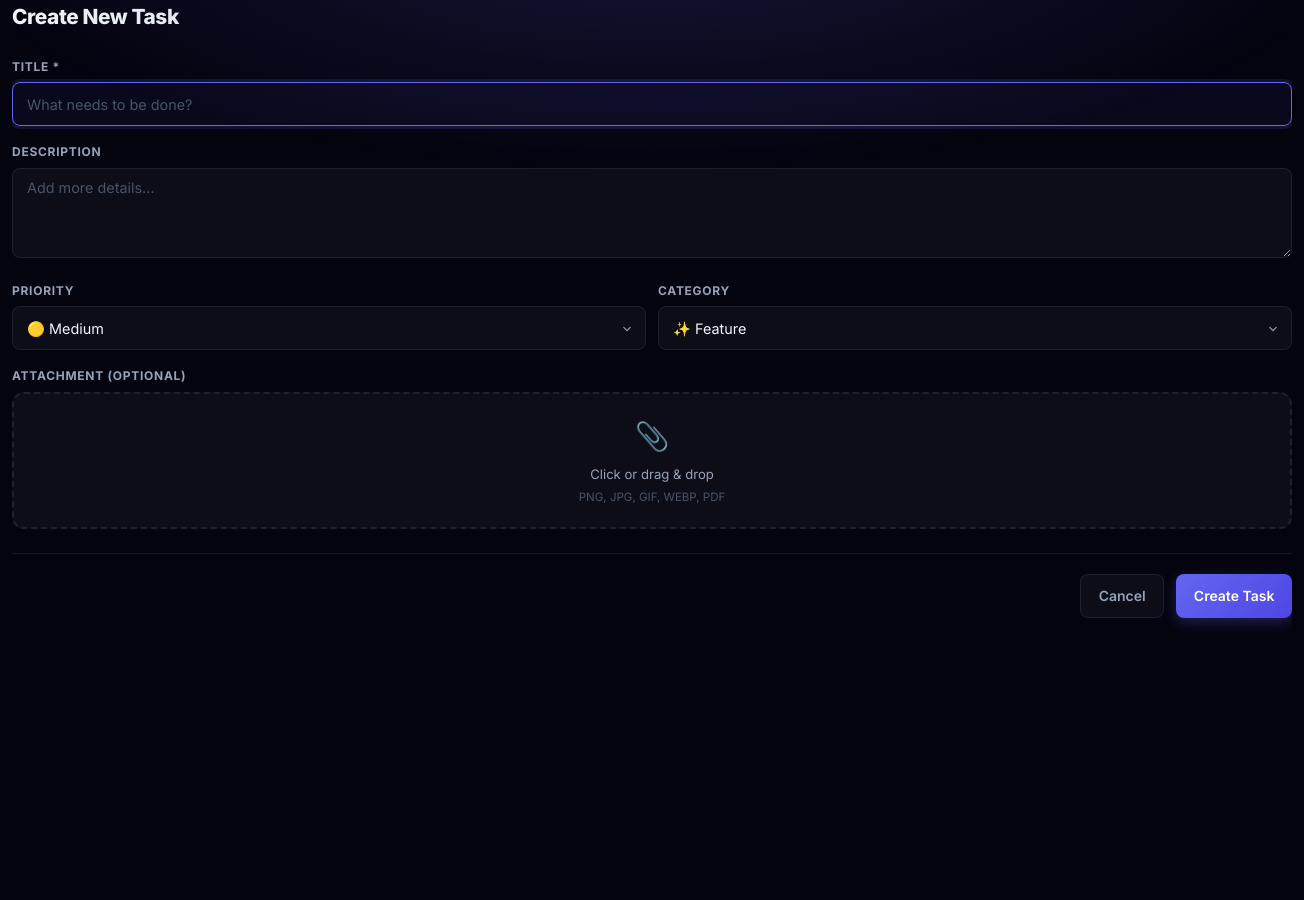
Test: TaskForm › shows validation error when submitting empty title
Click the button with test id "create-task-btn": (1234, 596) [1176,574,1292,618]
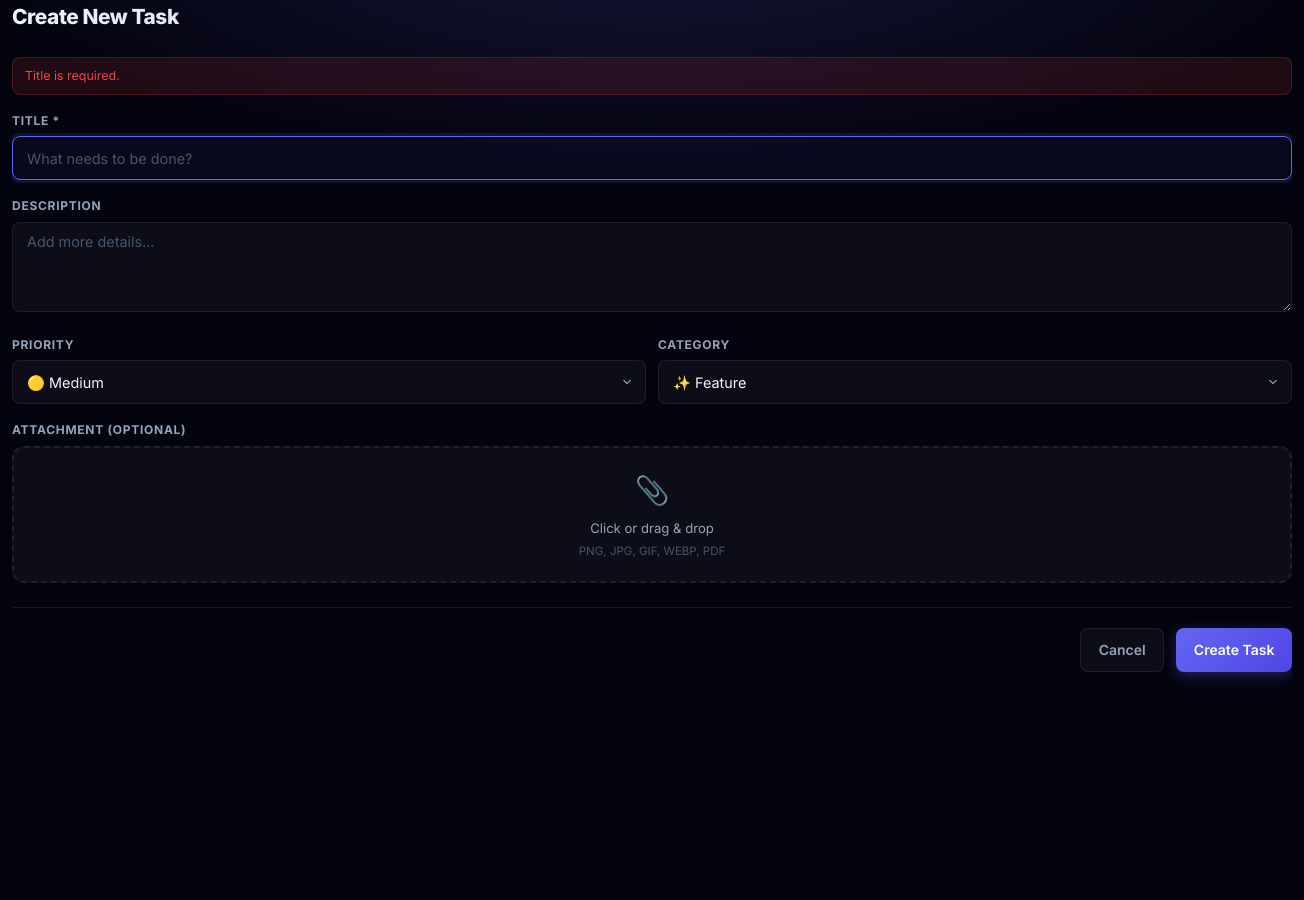
Expected: the text "Title is required." is shown, [12,57,1292,95]
